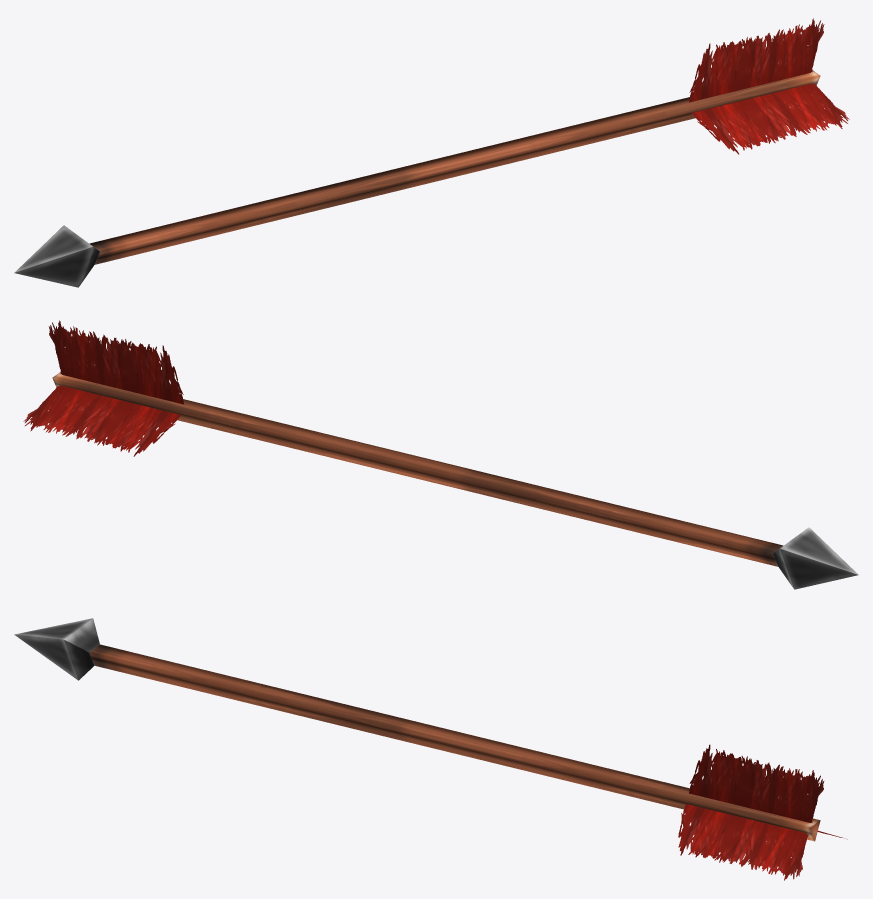
File: arrow.FBX
The picture shows the model from 3 angles, top to bottom: view 1: azimuth 30°, elevation 25°; view 2: azimuth 150°, elevation 25°; view 3: azimuth 330°, elevation 25°; orthographic projection.
Parts seen in each view (by area): view 1: Line002; view 2: Line002; view 3: Line002.
Part boxes in pixels (x1,y1,x2,y2): Line002: [14, 18, 849, 287]; Line002: [23, 320, 858, 589]; Line002: [14, 618, 847, 880].
Bounding box in the file's own units: 148 × 15.65 × 18.31.
